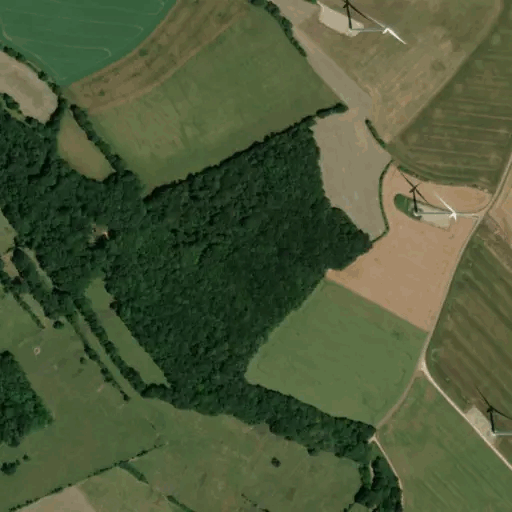wt: (393, 166, 465, 229), (332, 1, 410, 49), (468, 381, 512, 442)
